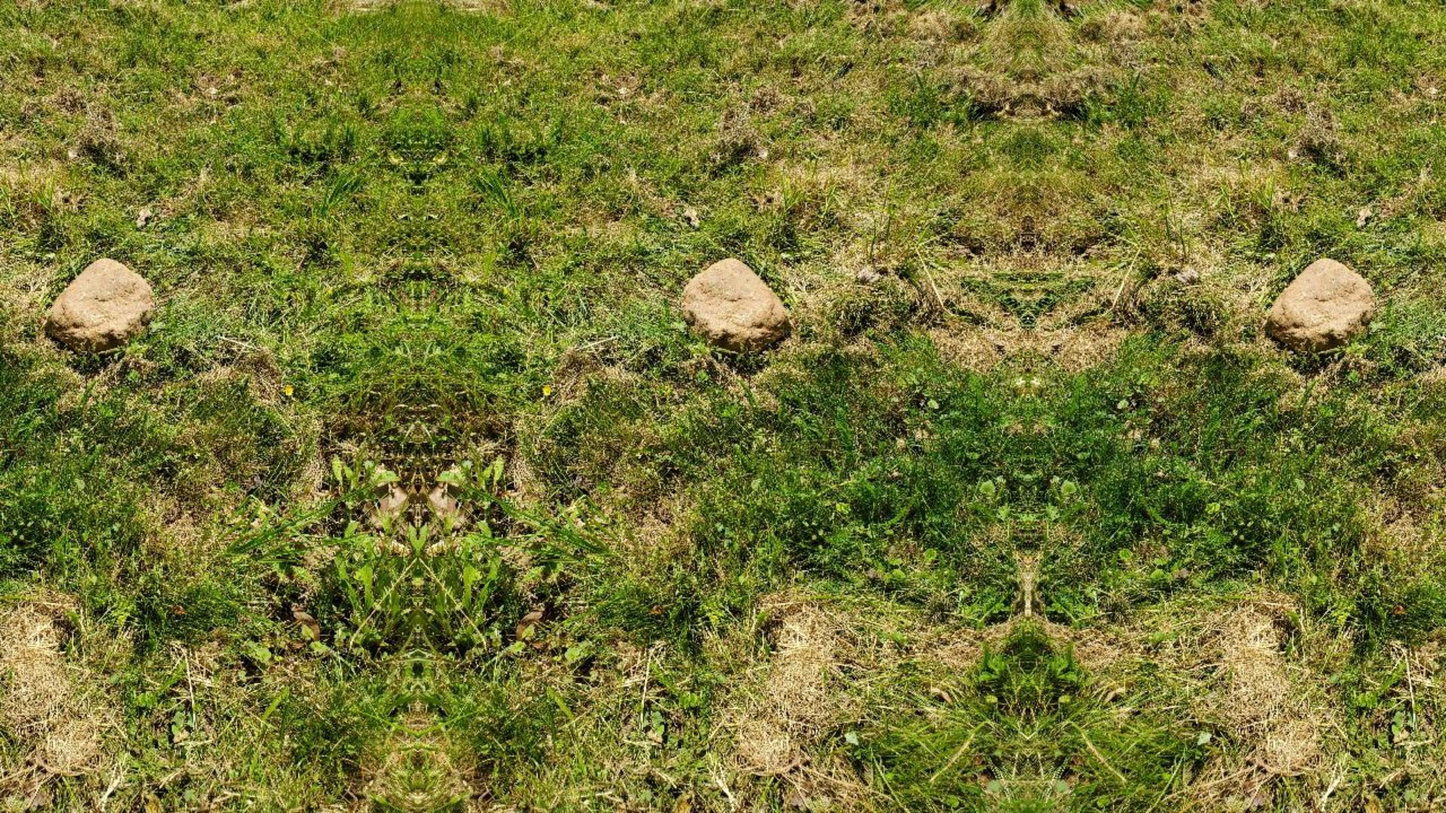rock: (45, 259, 154, 351), (681, 259, 790, 350), (1266, 259, 1374, 350)
